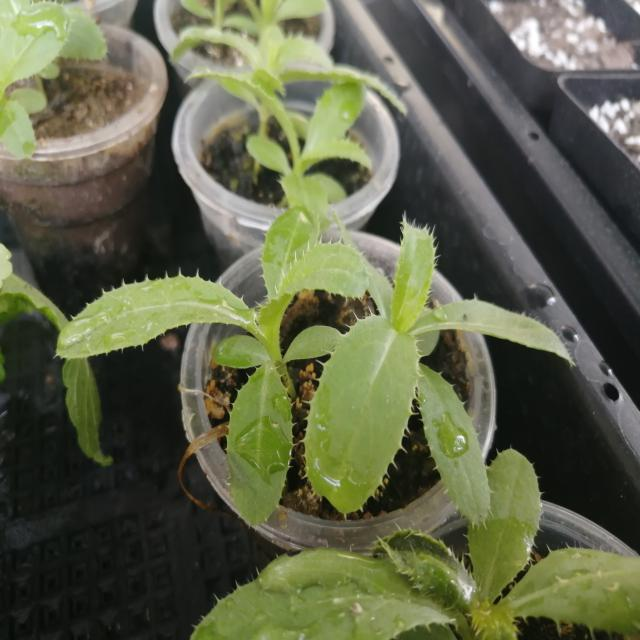field_thistle: (76, 214, 548, 530)
